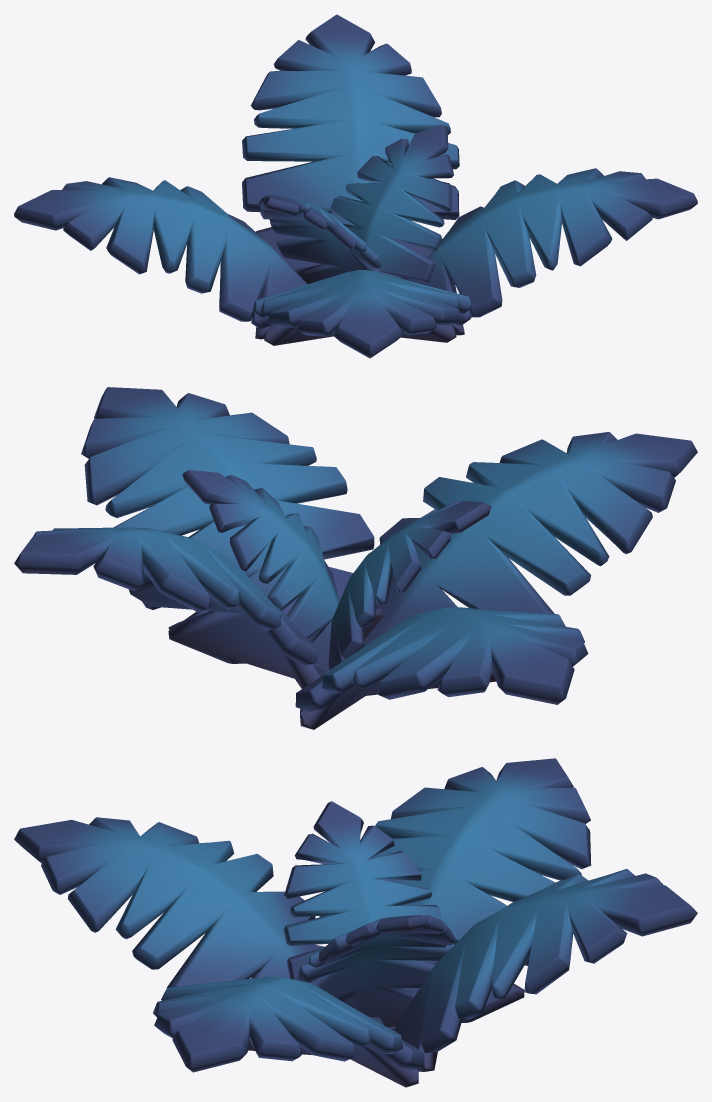
Rendered from Plant_006.glb.
3 renders of one model, top to bottom at view 1: azimuth 30°, elevation 25°; view 2: azimuth 150°, elevation 25°; view 3: azimuth 270°, elevation 25°, orthographic. The views are drawn at different scales.
Visible parts, largest first — view 1: Plant.006; view 2: Plant.006; view 3: Plant.006.
Part boxes in pixels (box(x1,y1,x2,y2)): Plant.006: box(14, 14, 697, 358); Plant.006: box(14, 387, 697, 729); Plant.006: box(14, 758, 697, 1087).
Bounding box in the file's own units: 11.6 × 3.59 × 11.11.
Materials: 1 (1 with a texture image).
